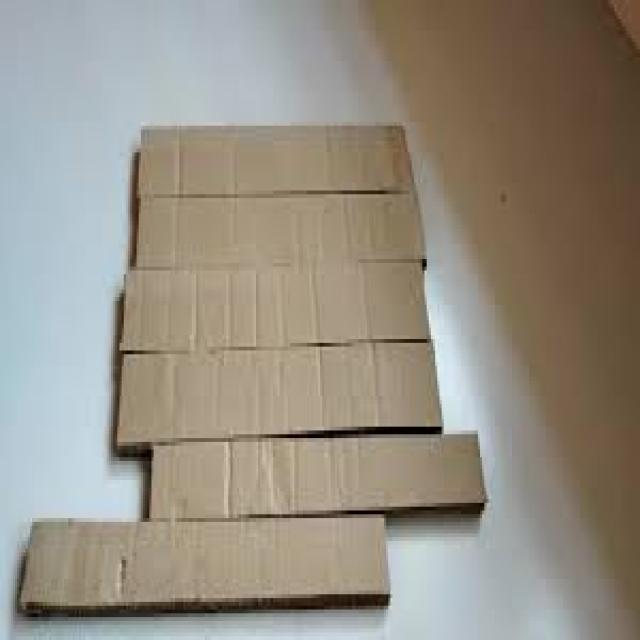cardboard: (113, 343, 444, 449), (13, 514, 390, 606), (145, 430, 486, 522), (117, 267, 429, 339), (132, 191, 425, 267), (134, 118, 412, 191)
